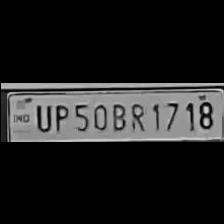0: (90, 101, 108, 131)
1: (179, 97, 195, 130), (147, 100, 161, 134)
5: (69, 99, 89, 130)
7: (158, 98, 180, 132)
8: (195, 96, 215, 130)
B: (108, 99, 128, 130)
P: (50, 100, 70, 132)
R: (127, 100, 148, 132)
U: (31, 100, 51, 132)
